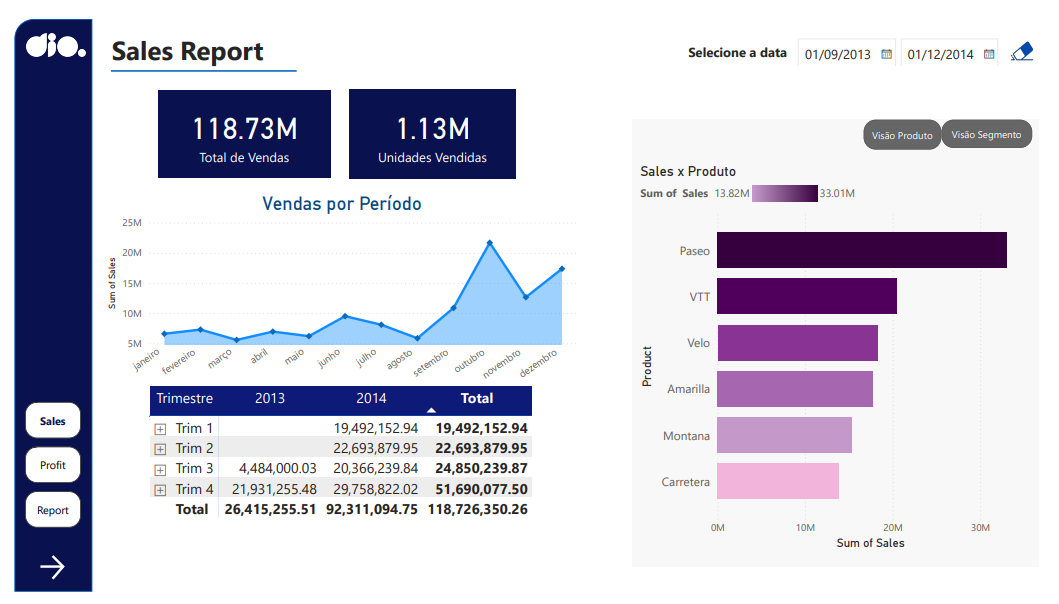

The page's visual inventory and layout, read from the dashboard file:
{"tool":"powerbi","page":{"name":"Sales","canvas":[1280,720],"ordinal":0},"visuals":[{"type":"shape","box":[0,13.4,96.4,706.2],"z":0,"group":"g1"},{"type":"group","id":"g1","title":"Layout","box":[0,13.4,96.4,706.2],"z":0},{"type":"slicer","fields":{"Values":["financials.Date"]},"box":[952.1,27,283.4,42.9],"z":0,"group":"g5"},{"type":"shape","box":[118.4,49.6,229,54.1],"z":0,"group":"g3"},{"type":"card","fields":{"Values":["Sum(financials. Sales)"]},"box":[176.6,100.9,212.7,108.2],"z":0,"group":"g2"},{"type":"areaChart","title":"Vendas por Período","fields":{"Category":["financials.Date.Variation.Hierarquia de datas.Ano","financials.Date.Variation.Hierarquia de datas.Mês"],"Y":["Sum(financials. Sales)"]},"box":[110.1,227,587.7,251.6],"z":0,"group":"g4"},{"type":"pivotTable","fields":{"Columns":["financials.Date.Variation.Hierarquia de datas.Ano"],"Rows":["financials.Date.Variation.Hierarquia de datas.Trimestre","financials.Date.Variation.Hierarquia de datas.Mês"],"Values":["Sum(financials. Sales)"]},"box":[162.6,460.8,586,232.4],"z":500,"group":"g4"},{"type":"image","title":"logo_dio","box":[9.5,19.2,82.7,52.5],"z":1000,"group":"g1"},{"type":"textbox","box":[114.5,23.9,227.2,56],"z":1000,"group":"g3"},{"type":"textbox","title":"Selecione a data:","box":[825.5,38.1,207.8,35.6],"z":1000,"group":"g5"},{"type":"card","fields":{"Values":["Sum(financials.Units Sold)"]},"box":[412.6,100.2,205.2,109.8],"z":1000,"group":"g2"},{"type":"actionButton","title":"Botão - Next","box":[25.9,669,48.8,39.6],"z":1000},{"type":"actionButton","box":[1212,30.2,62.3,40.1],"z":2000,"group":"g5"},{"type":"group","id":"g2","title":"Cartões","box":[176.6,100.2,440.6,109.8],"z":2000},{"type":"clusteredBarChart","title":"Sales x Produto","fields":{"Category":["financials.Product"],"Y":["Sum(financials. Sales)"]},"box":[767.2,191,495,479.8],"z":2000,"group":"g6"},{"type":"actionButton","title":"B-Segmento","box":[1143,136.8,111.5,34.9],"z":2250,"group":"g6"},{"type":"actionButton","title":"B-Produto","box":[1046.4,136.8,96.5,36.9],"z":2500,"group":"g6"},{"type":"group","id":"g3","title":"Title report","box":[114.5,23.9,233,79.8],"z":3000},{"type":"image","title":"clean","box":[1216.8,35,50.9,35],"z":3000,"group":"g5"},{"type":"group","id":"g4","title":"Perspectiva temporal das vendas","box":[110.1,227,638.4,466.3],"z":4000},{"type":"pageNavigator","box":[12.7,485.1,70,157.5],"z":6000},{"type":"group","id":"g5","title":"Selector","box":[825.5,27,448.6,46.1],"z":7000},{"type":"group","id":"g6","title":"Group 1","box":[761.9,136.8,501,551.9],"z":9000}]}

Visuals, with their boxes in screenshot pixels (x1, y1, x2, y2), scaled from the page's 1280x720 canvas onto the 1059x604 screenshot:
shape: 0,11,80,603
"Layout" group: 0,11,80,603
slicer - financials.Date: 788,23,1022,59
shape: 98,42,287,87
card - Sum(financials. Sales): 146,85,322,175
"Vendas por Período" areaChart: 91,190,577,401
pivotTable - financials.Date.Variation.Hierarquia de datas.Ano x financials.Date.Variation.Hierarquia de datas.Trimestre: 135,387,619,582
"logo_dio" image: 8,16,76,60
textbox: 95,20,283,67
"Selecione a data:" textbox: 683,32,855,62
card - Sum(financials.Units Sold): 341,84,511,176
"Botão - Next" actionButton: 21,561,62,594
actionButton: 1003,25,1054,59
"Cartões" group: 146,84,511,176
"Sales x Produto" clusteredBarChart: 635,160,1044,563
"B-Segmento" actionButton: 946,115,1038,144
"B-Produto" actionButton: 866,115,946,146
"Title report" group: 95,20,288,87
"clean" image: 1007,29,1049,59
"Perspectiva temporal das vendas" group: 91,190,619,582
pageNavigator: 11,407,68,539
"Selector" group: 683,23,1054,61
"Group 1" group: 630,115,1045,578
